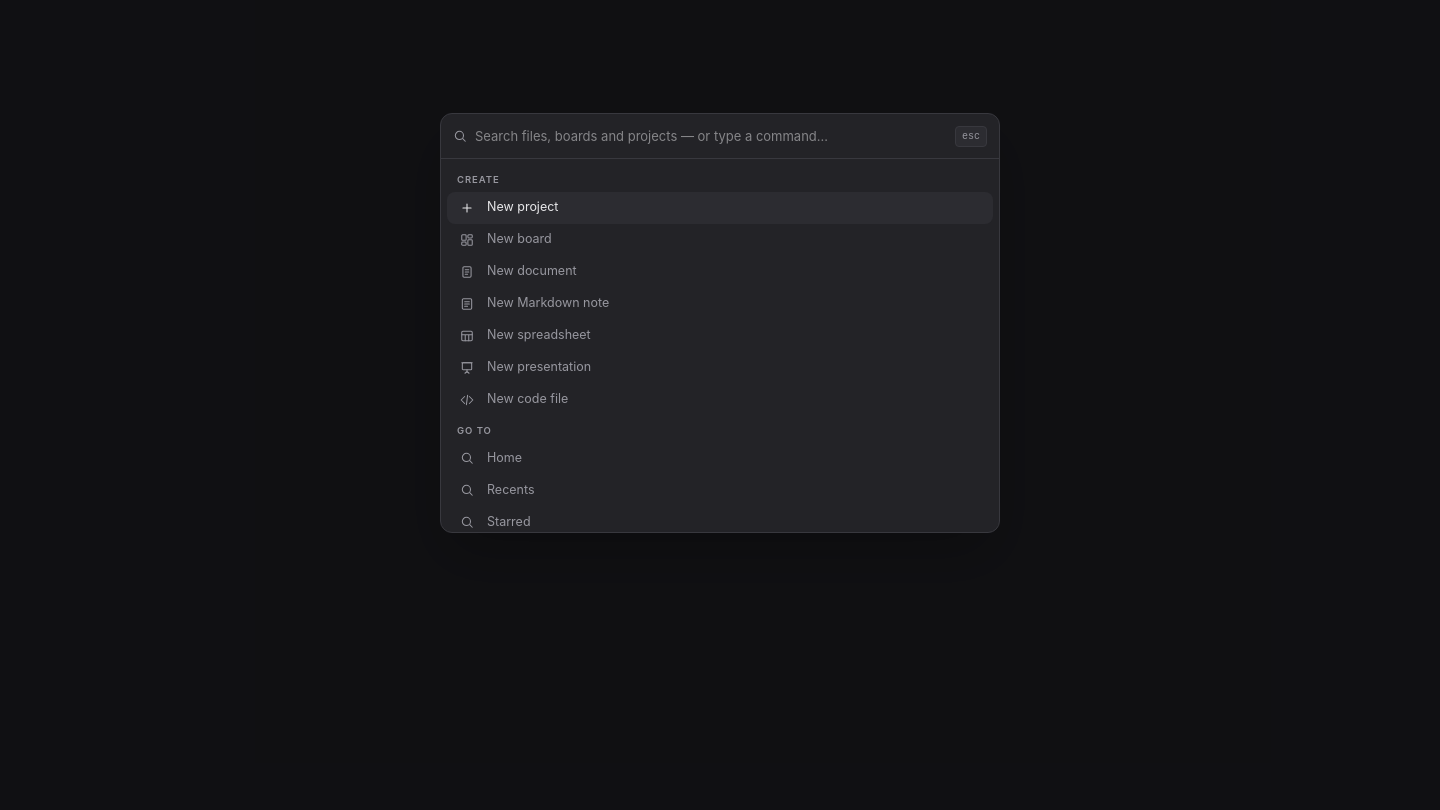
Test case: creation names its destination › asks for a target from the dashboard instead of inheriting the last project
Click the option "New Markdown note" at (548, 303), box [447,288,993,320]
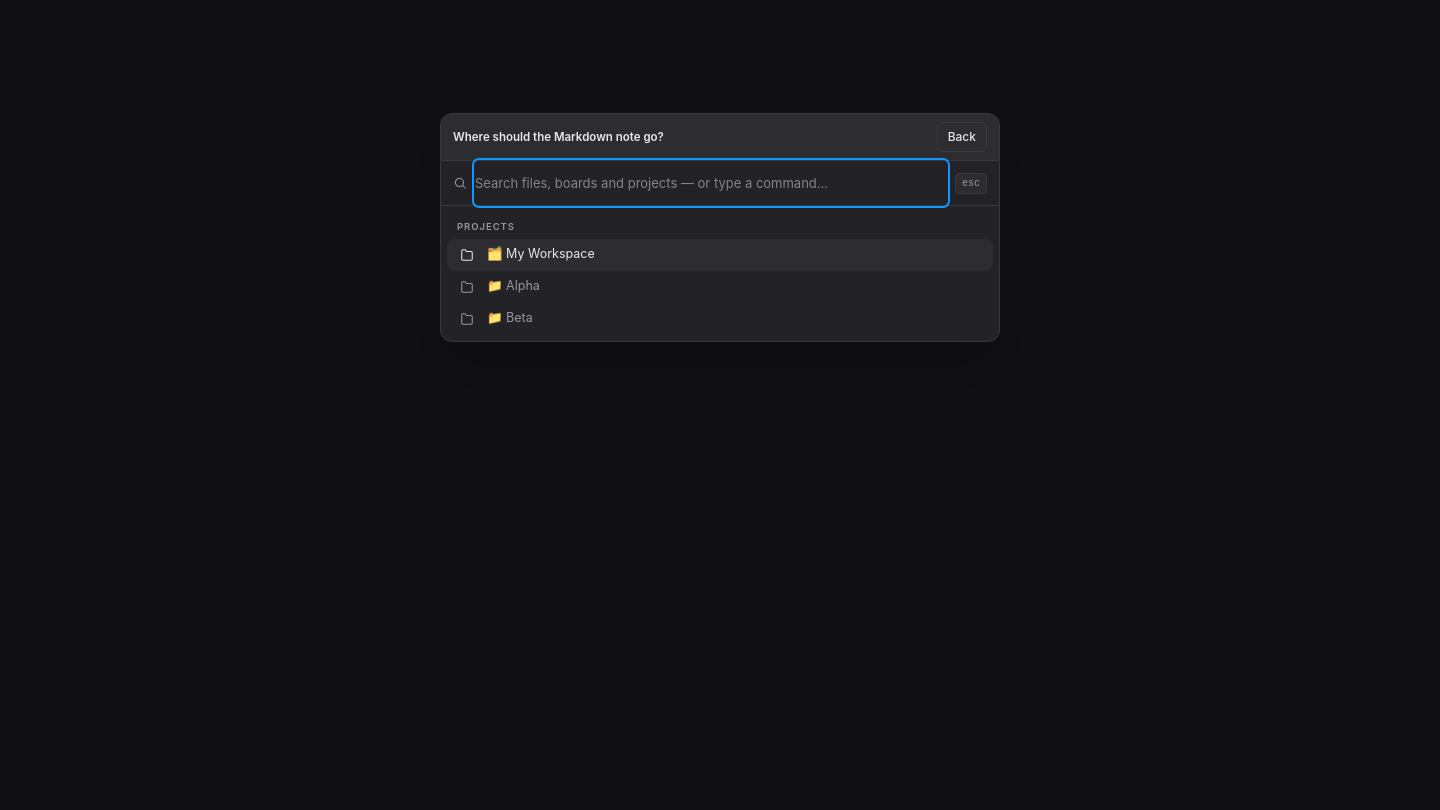
Expected: the text "Where should the Markdown note go?" is shown, [453,130,664,144]
Expected: the text "📁 Alpha" is shown, [487,278,540,293]
Expected: the text "📁 Beta" is shown, [487,310,533,325]
